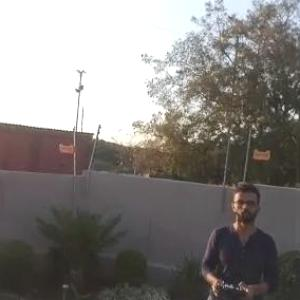follow: (198, 176, 284, 299)
